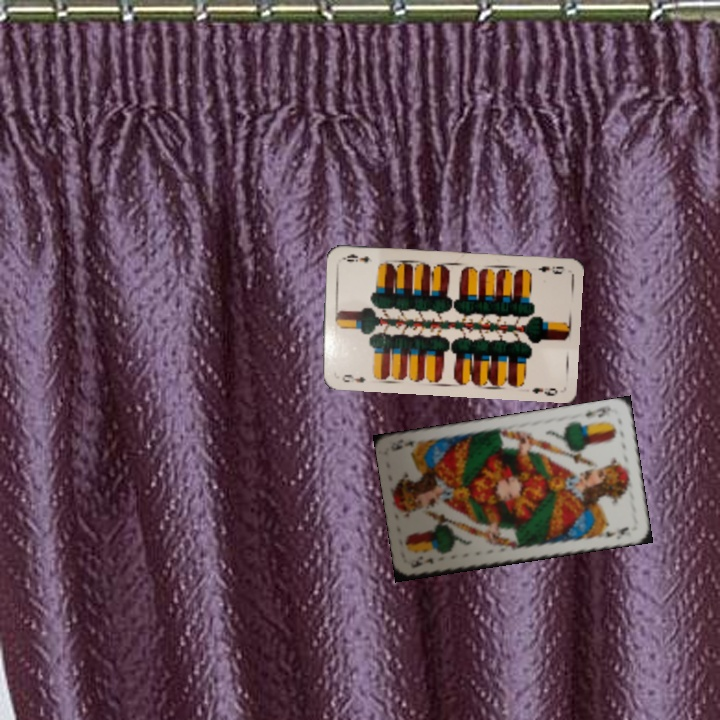E9: (534, 262, 566, 277), (338, 370, 368, 385)
EK: (582, 402, 613, 420), (407, 554, 436, 571)
